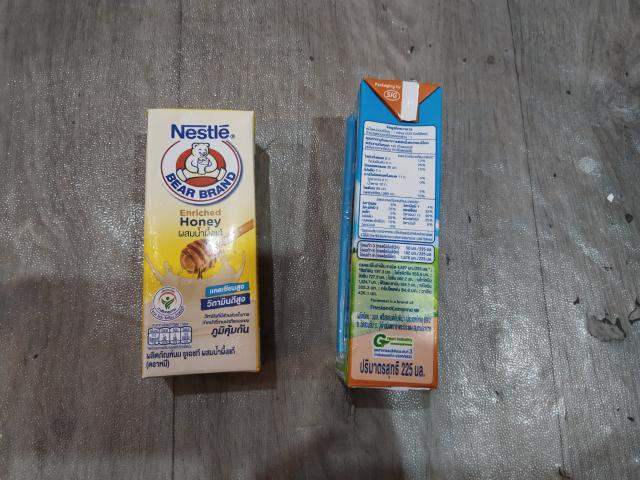drink_box: (138, 101, 266, 385), (331, 75, 442, 397)
